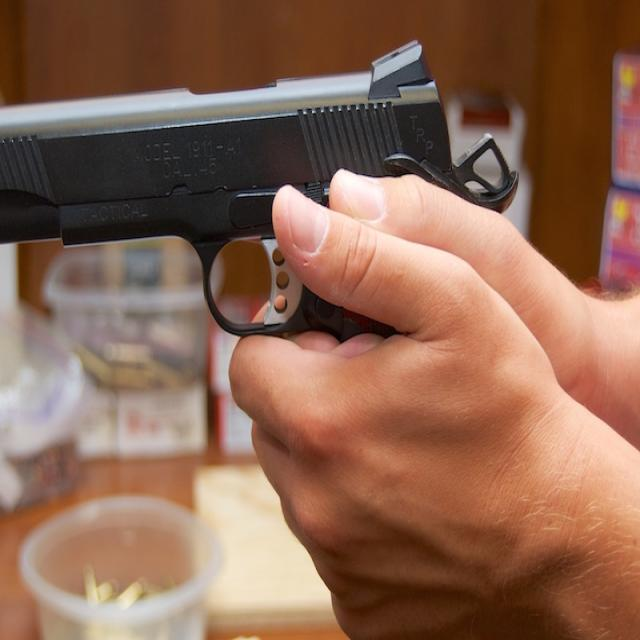HandGun: (0, 41, 518, 338)
